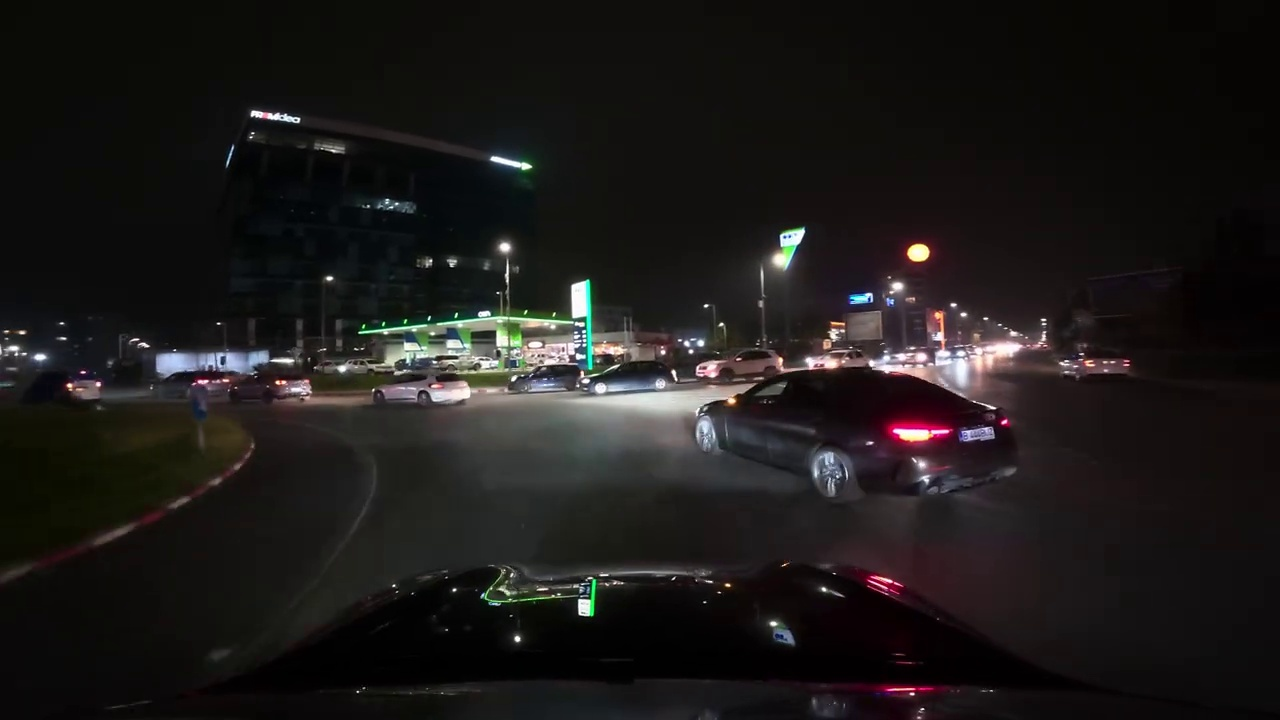acesa: (769, 238, 802, 273), (906, 242, 932, 264), (495, 237, 514, 257)
